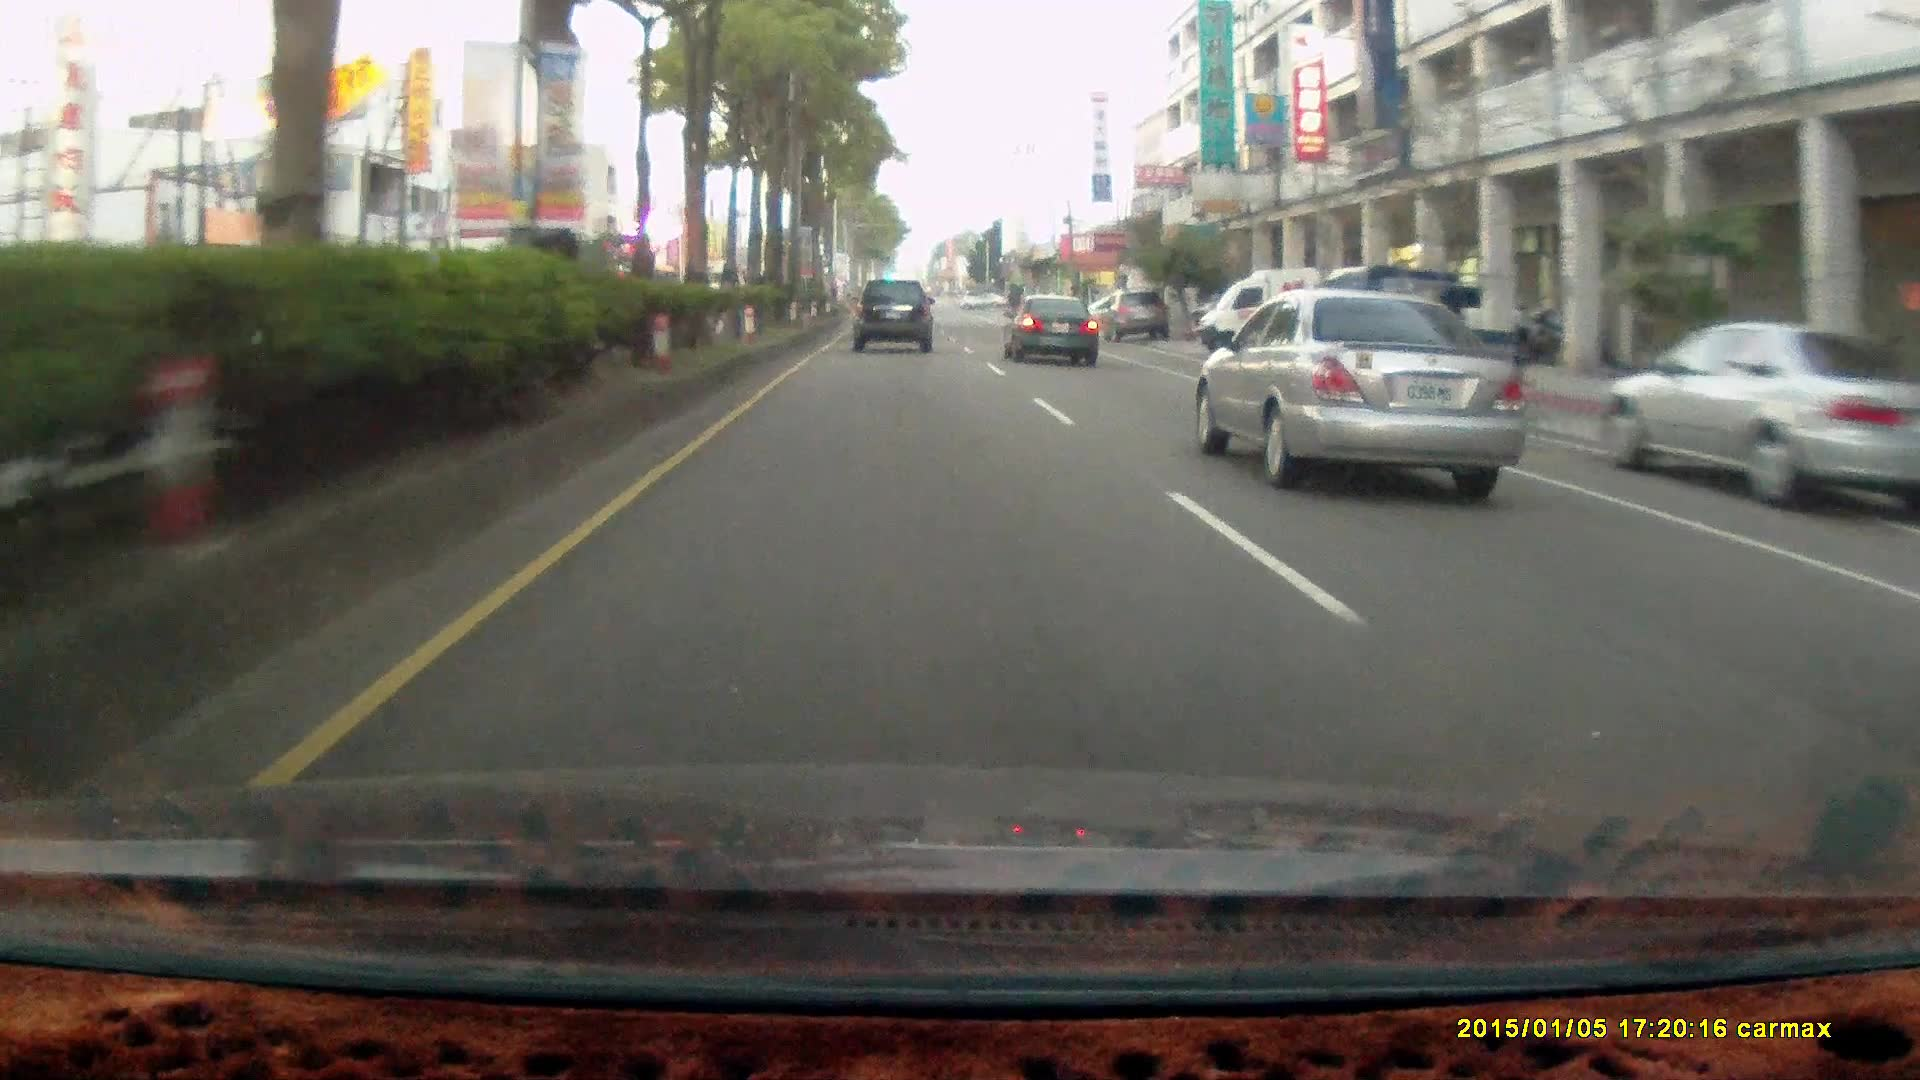vehicle: (1197, 287, 1524, 492), (1597, 320, 1920, 516), (1605, 324, 1920, 508), (1294, 265, 1520, 423), (1342, 266, 1560, 427), (1195, 269, 1375, 375), (1000, 295, 1104, 371), (1001, 291, 1096, 367), (853, 280, 936, 357), (852, 276, 932, 349), (1098, 291, 1167, 344), (1098, 291, 1166, 343)
